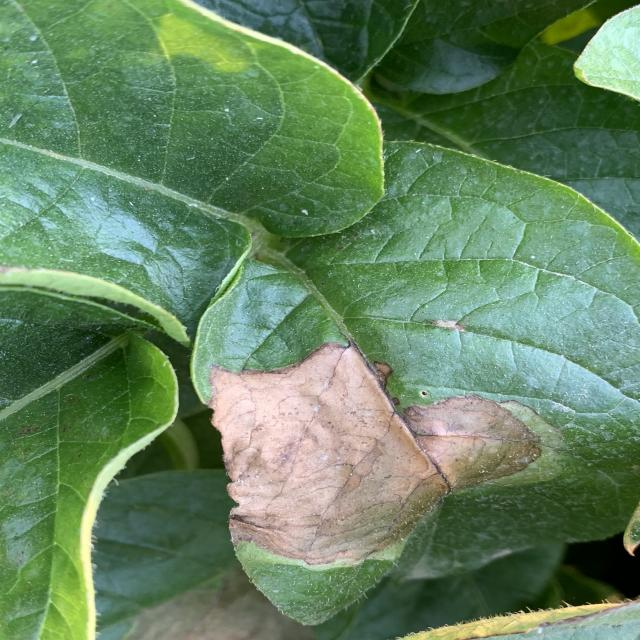lateblight: (210, 342, 540, 624)
